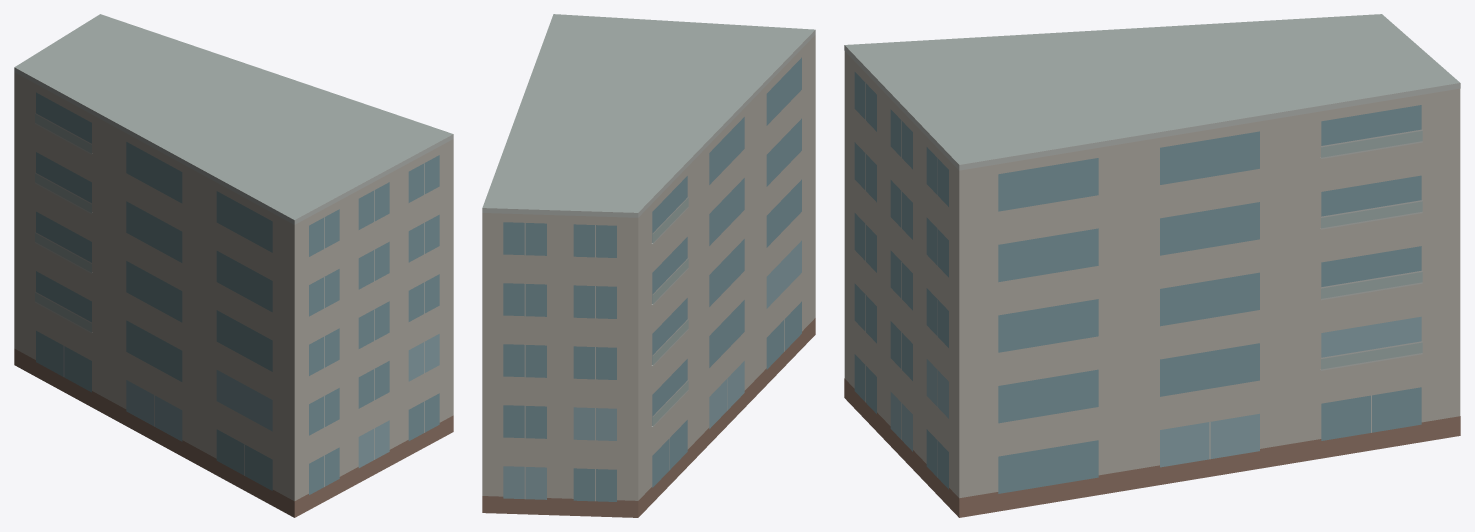
Rendered from residential-ee344b35-0af1-4523-9407-7144a808c1de.glb.
The picture shows the model from 3 angles, left to right: view 1: azimuth 30°, elevation 25°; view 2: azimuth 150°, elevation 25°; view 3: azimuth 270°, elevation 25°; orthographic projection. The views are drawn at different scales.
Parts seen in each view (by area): view 1: residential-ee344b35-0af1-4523-9407-7144a808c1de.tmp; view 2: residential-ee344b35-0af1-4523-9407-7144a808c1de.tmp; view 3: residential-ee344b35-0af1-4523-9407-7144a808c1de.tmp.
Part boxes in pixels (left/top/right/bottom): residential-ee344b35-0af1-4523-9407-7144a808c1de.tmp: left=14, top=14, right=453, bottom=517; residential-ee344b35-0af1-4523-9407-7144a808c1de.tmp: left=482, top=14, right=815, bottom=517; residential-ee344b35-0af1-4523-9407-7144a808c1de.tmp: left=844, top=14, right=1460, bottom=517.
Size of the model in its own units: 14 by 15.25 by 24.13.
